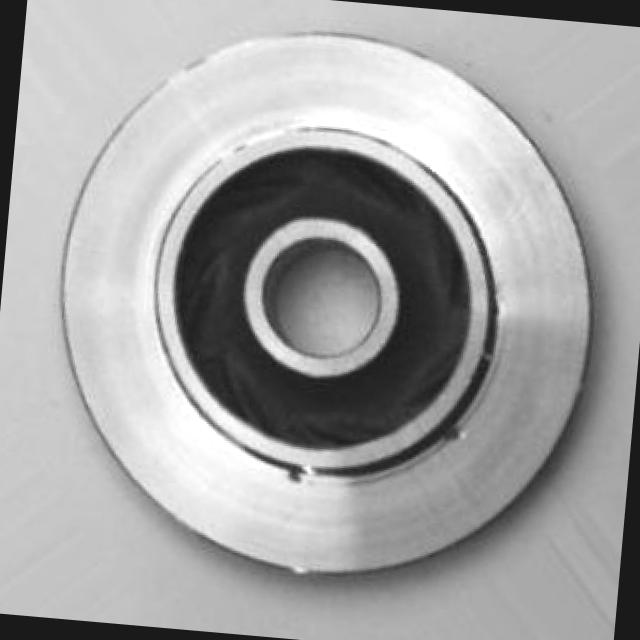Defect: (281, 452, 316, 490)
